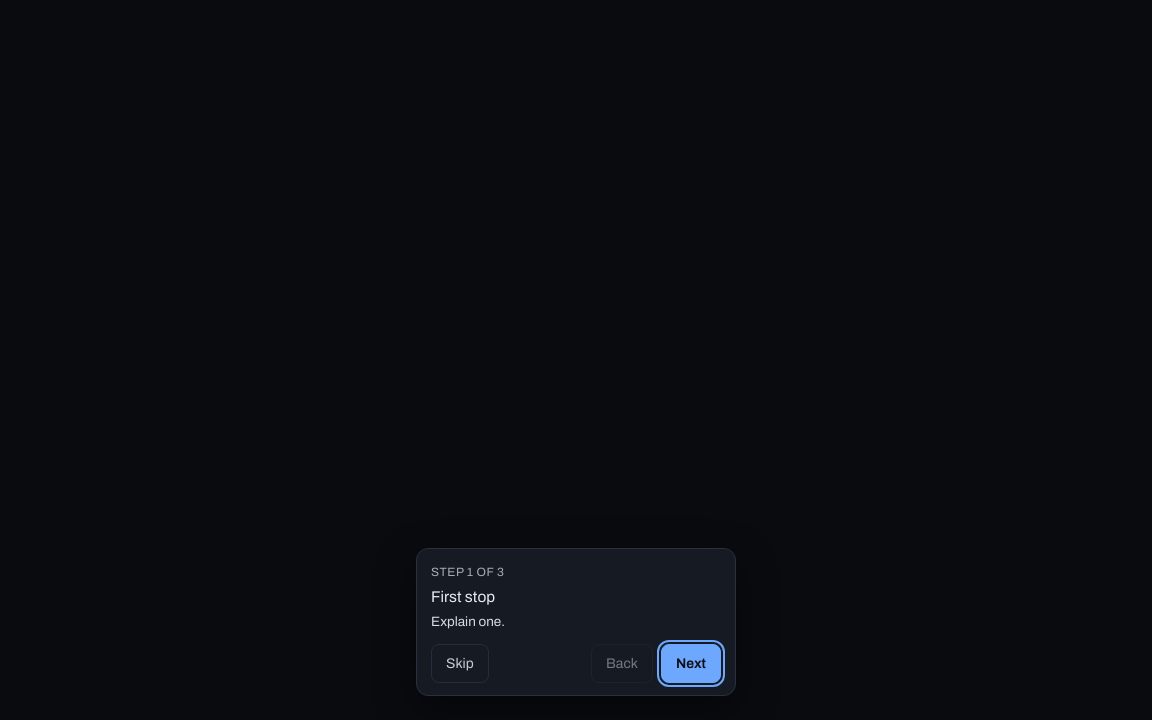
Test: SpotlightTour › steps forward and back with Next/Back
Expected: the button "Back" is disabled, left=591, top=644, right=653, bottom=683
Click the button "Next": click(691, 664) left=661, top=644, right=721, bottom=683
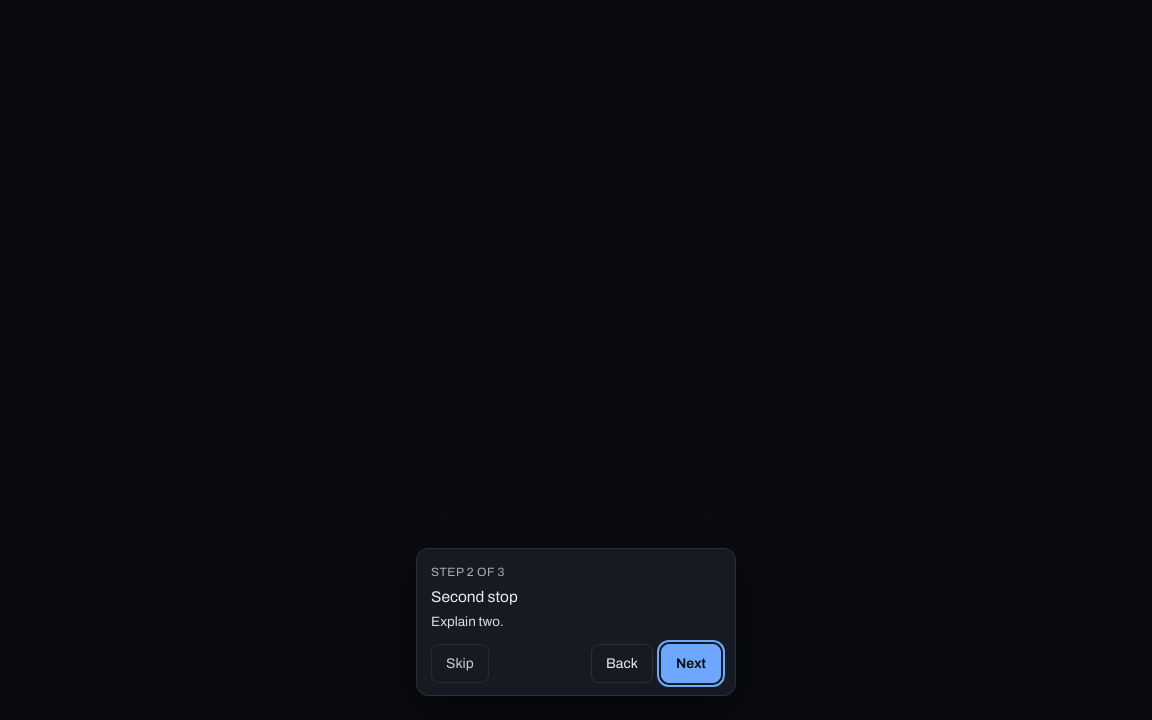
Now the heading "Second stop" is shown, box left=431, top=588, right=518, bottom=605
Click the button "Back": click(622, 664) left=591, top=644, right=653, bottom=683
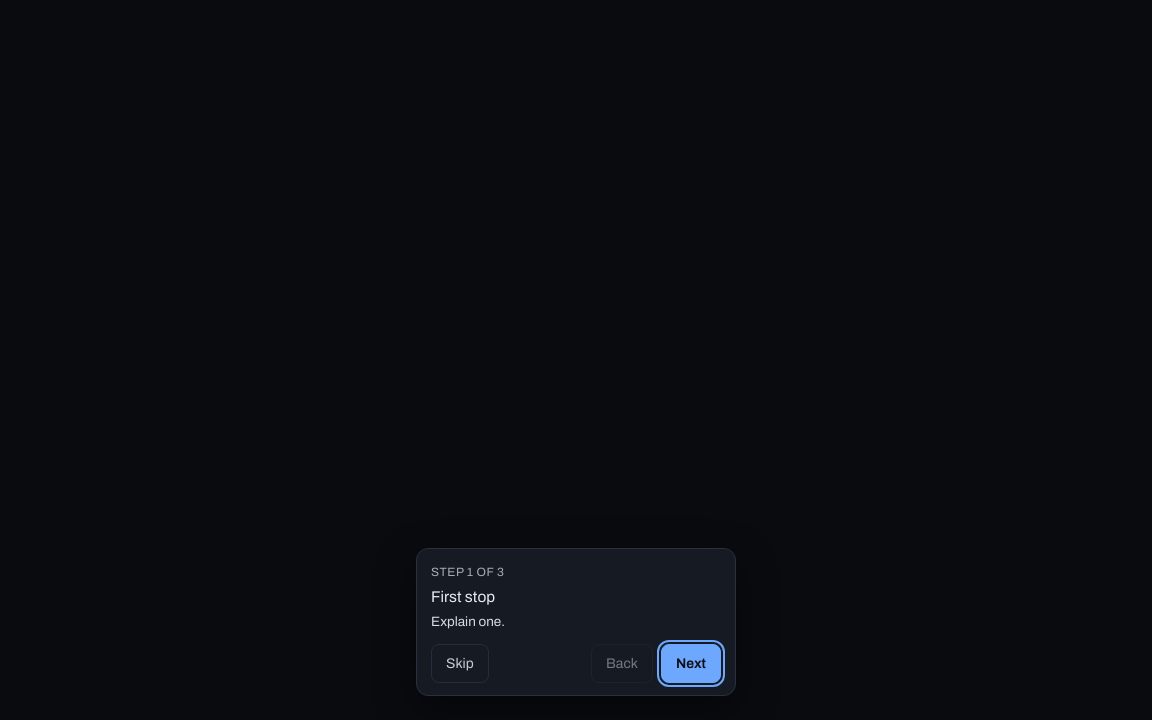
Now the heading "First stop" is shown, box left=431, top=588, right=495, bottom=605
